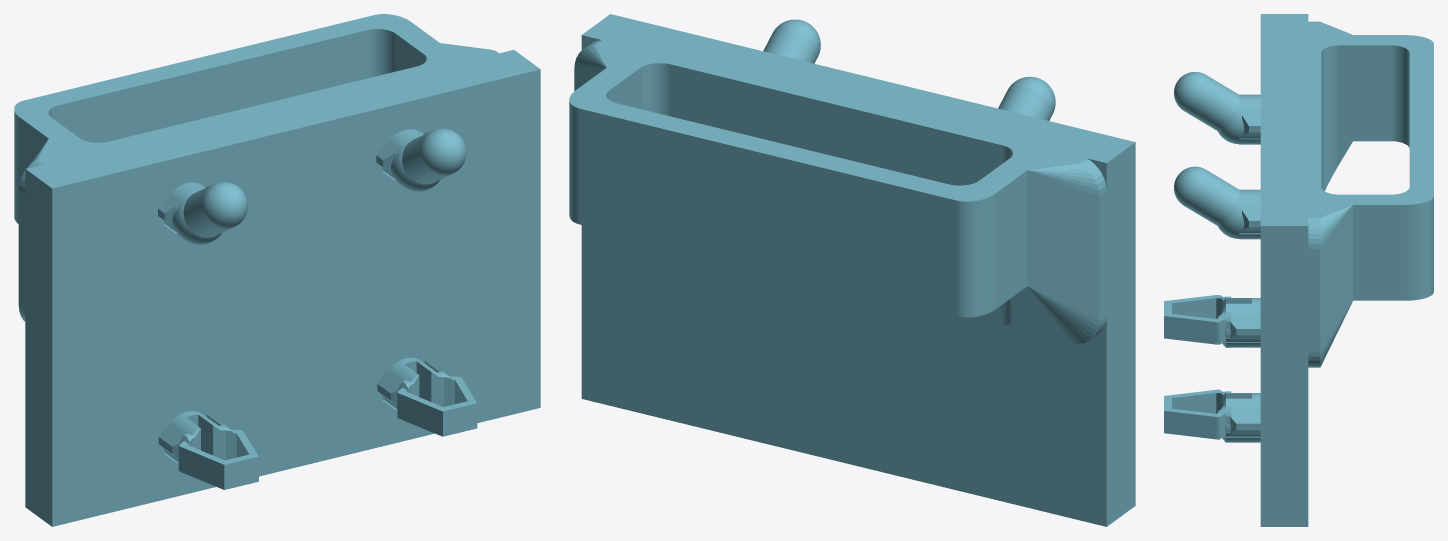
File: part-p10__current-mounts-flat-top-v2__fit-pf02c9-hoop5__installed.glb
3 renders of one model, left to right at view 1: azimuth 30°, elevation 25°; view 2: azimuth 150°, elevation 25°; view 3: azimuth 270°, elevation 25°, orthographic. The views are drawn at different scales.
Parts seen in each view (by area): view 1: installed.stl; view 2: installed.stl; view 3: installed.stl.
Boxes of the visible parts, <box> form: installed.stl: <box>14,14,540,526</box>; installed.stl: <box>569,14,1135,526</box>; installed.stl: <box>1164,14,1433,526</box>.
Bounding box in the file's own units: 0.0568 × 0.0376 × 0.0305.
